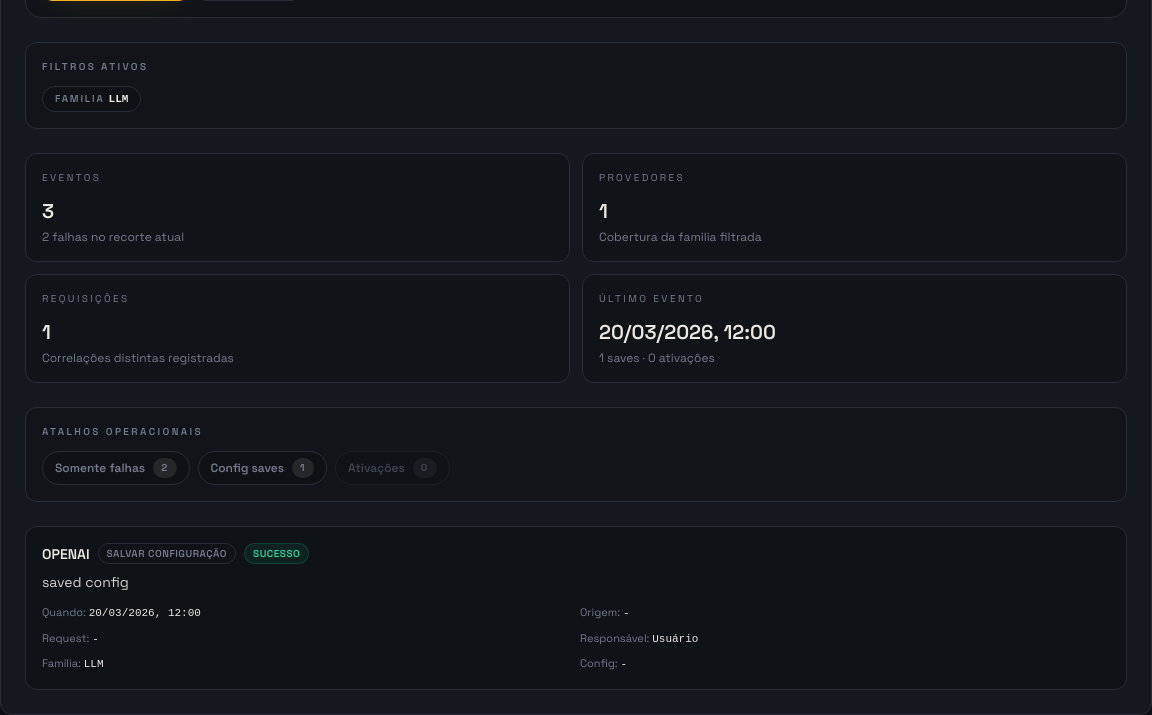
ProviderAuditExplorer › applies the failure quick filter from the shortcuts
The image size is (1152, 715).
(page scrolled)
Expected: the text "saved config" is shown, [42, 573, 129, 591]
Click the button "Somente falhas 2": (116,468) [42, 451, 190, 485]
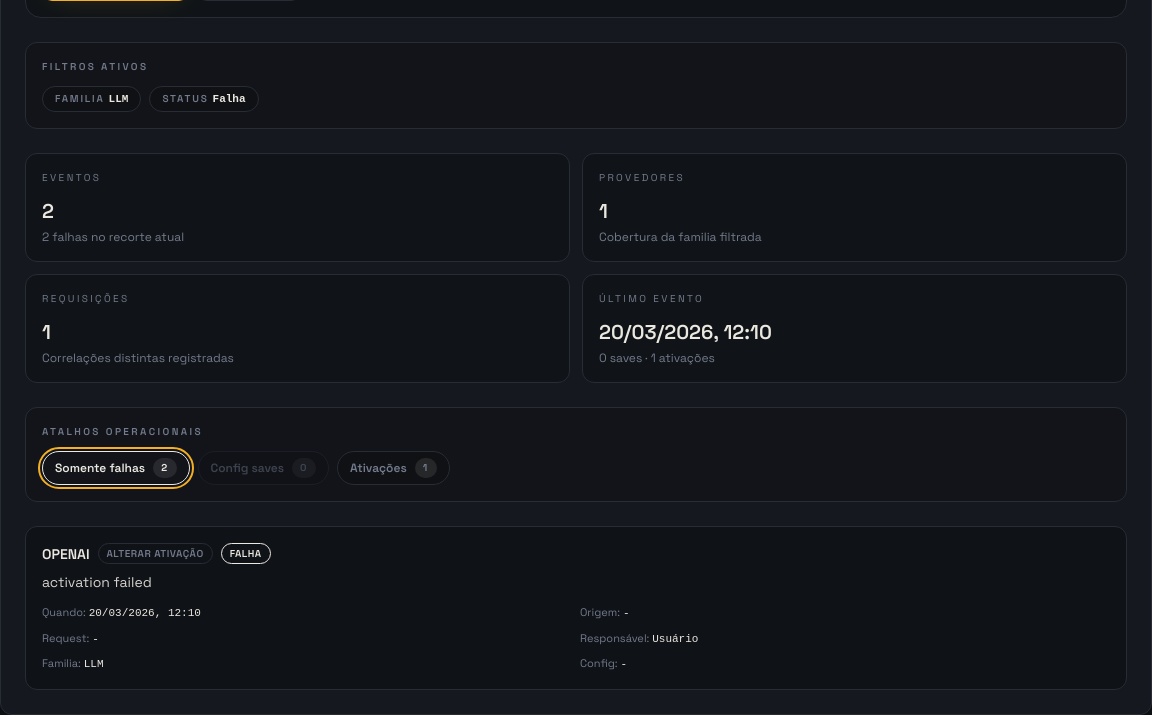
Now the text "activation failed" is shown, box [42, 573, 152, 591]
